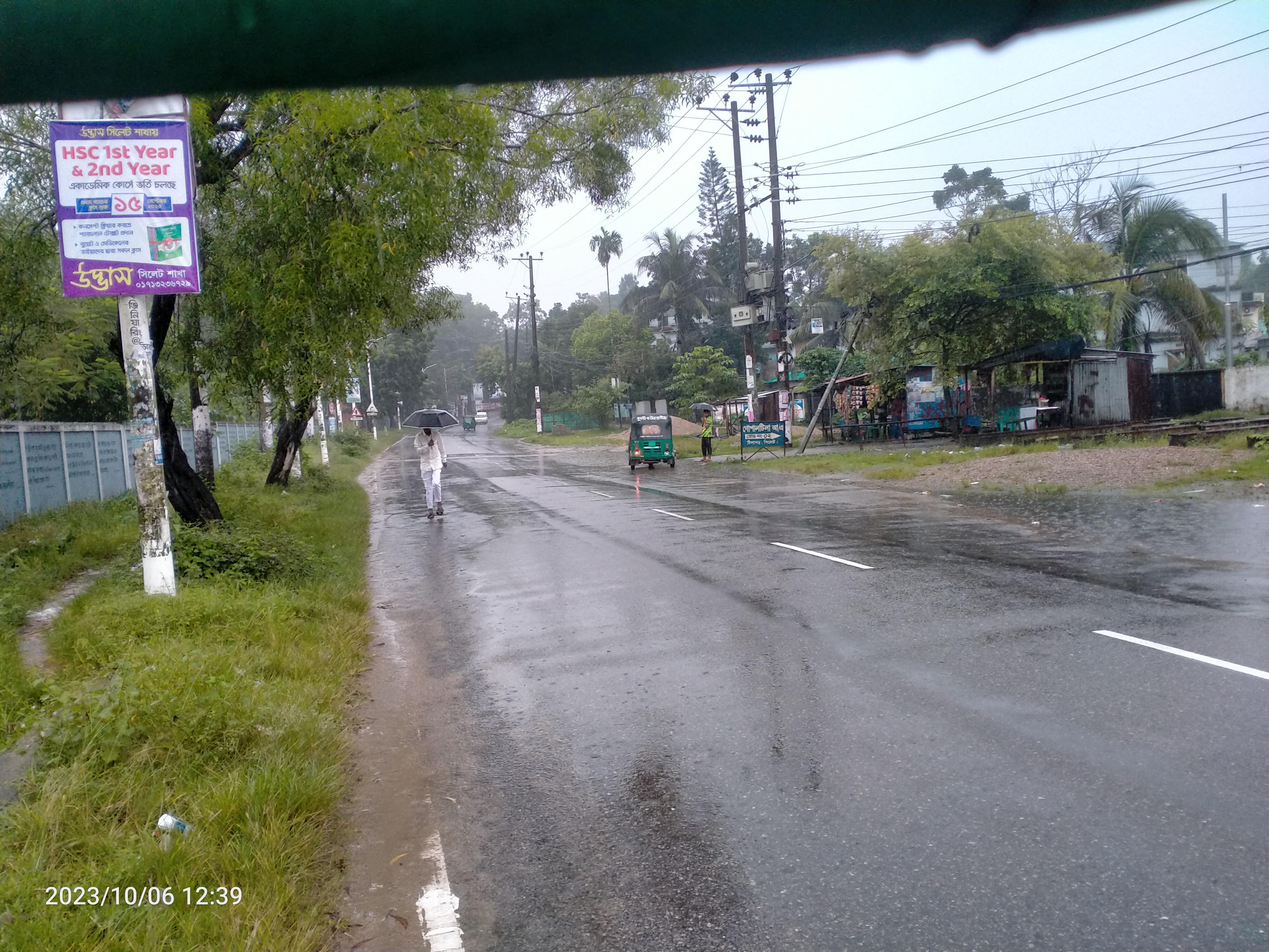Car: (475, 410, 490, 425)
